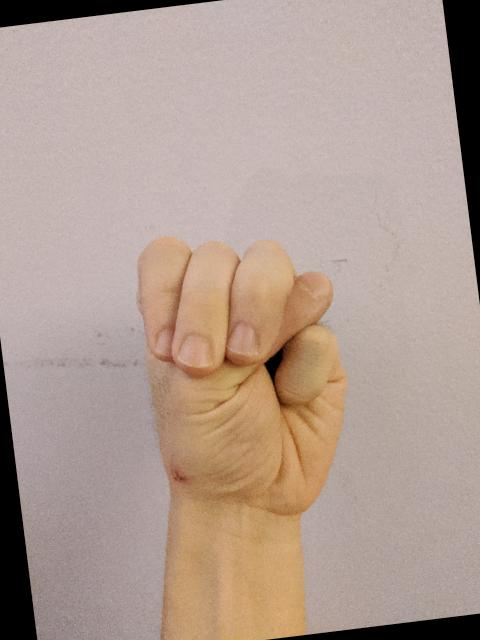M: (120, 208, 369, 536)
